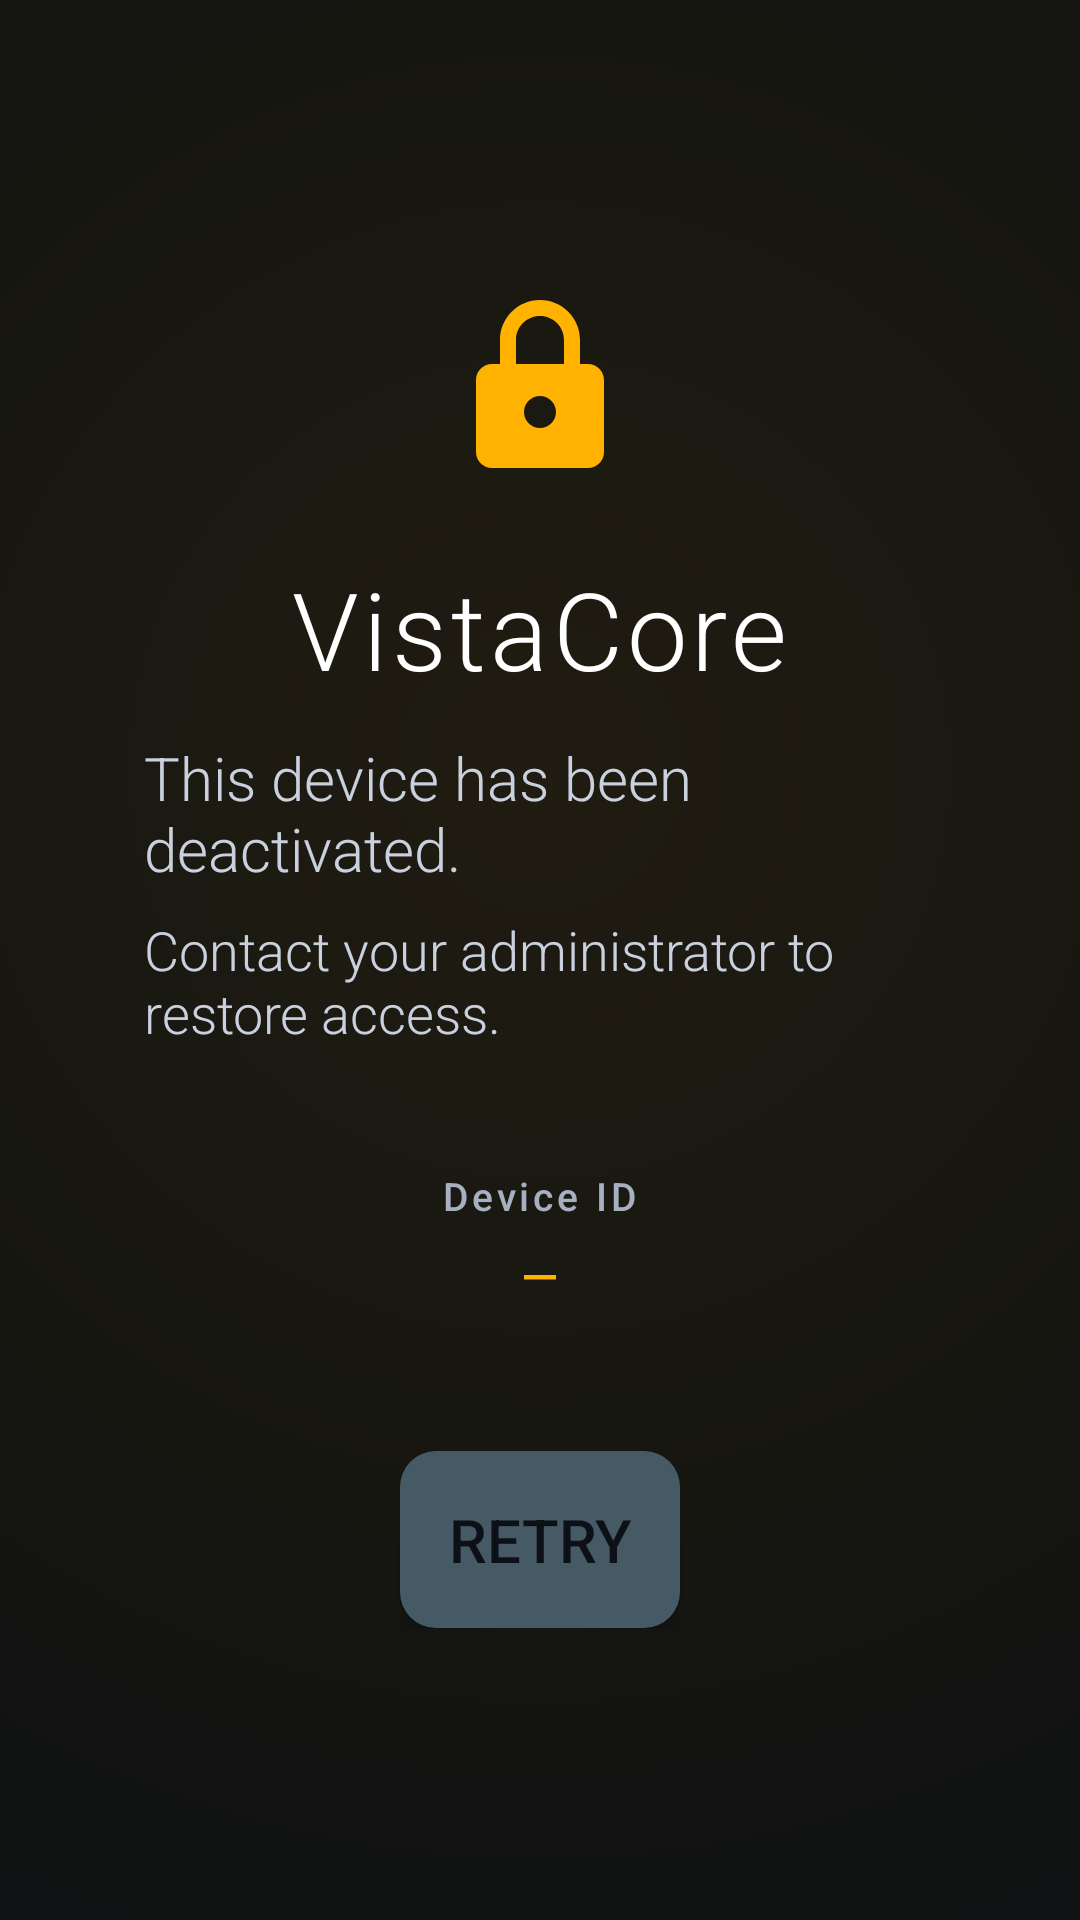

Where icons sit on this 1080 × 1920 app screen, as (x1, y1, x2, y2):
Locked: (476, 300, 604, 468)
